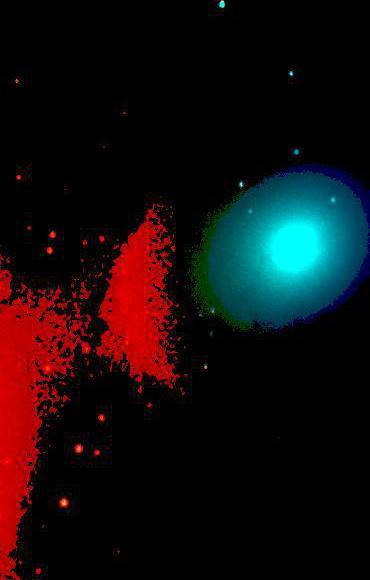star: (221, 241, 251, 271)
